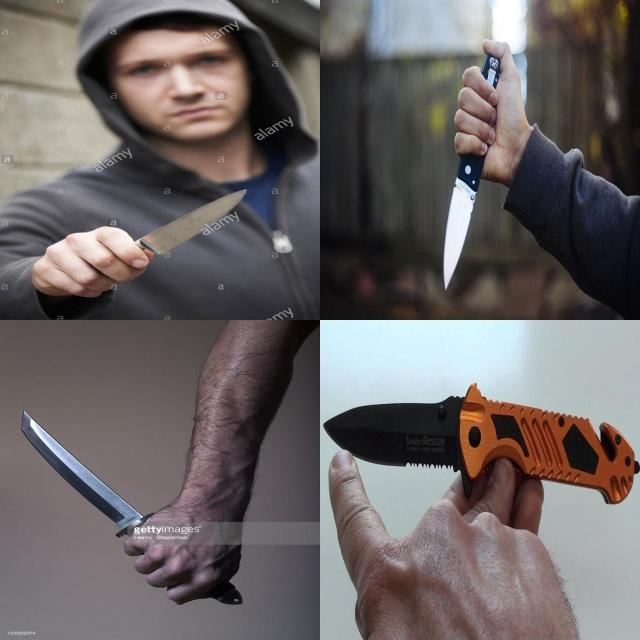-: (15, 403, 174, 590), (319, 370, 510, 506), (55, 184, 253, 294), (435, 88, 502, 295)
